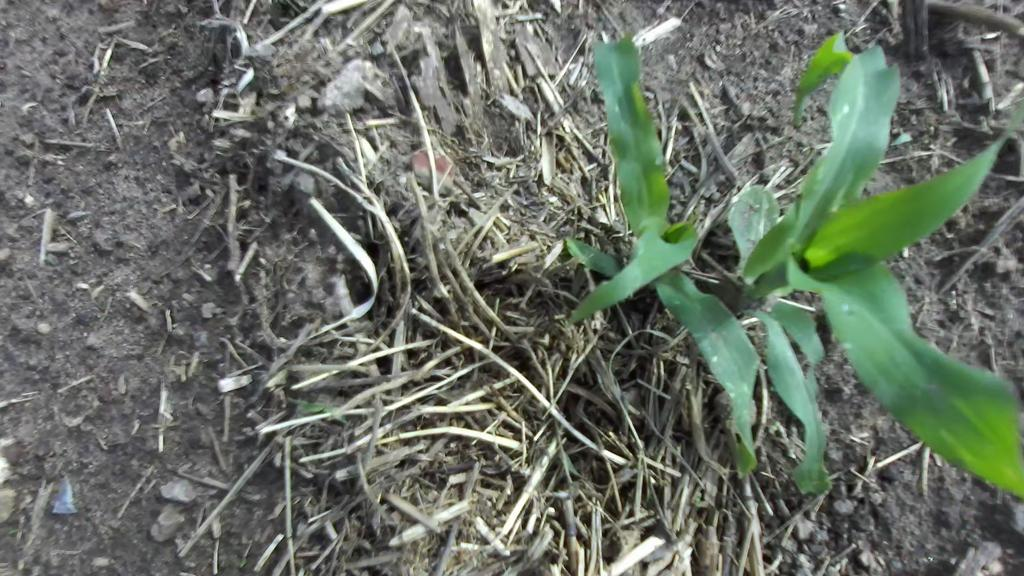BroWeed: (284, 396, 333, 419), (890, 126, 916, 153), (321, 402, 351, 425), (559, 453, 583, 480), (237, 555, 249, 570), (694, 491, 703, 503), (7, 527, 18, 535)
Maize: (475, 19, 797, 514), (727, 31, 1024, 499)
